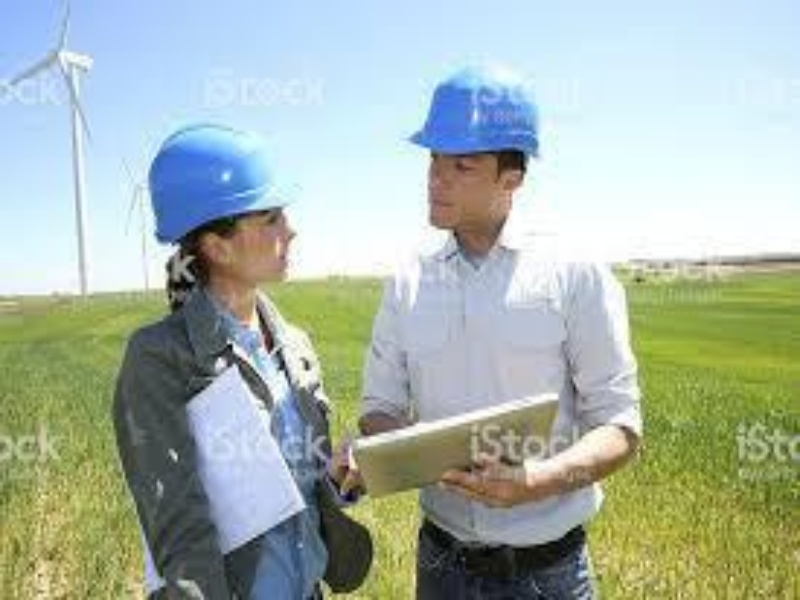helmet: (150, 123, 300, 245), (410, 60, 543, 157)
